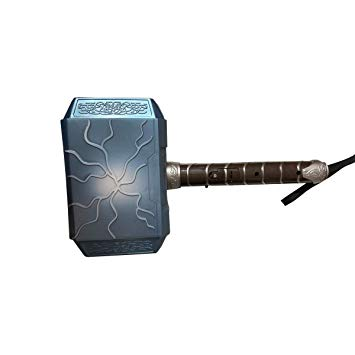THOR Hammer: (59, 89, 330, 262)
